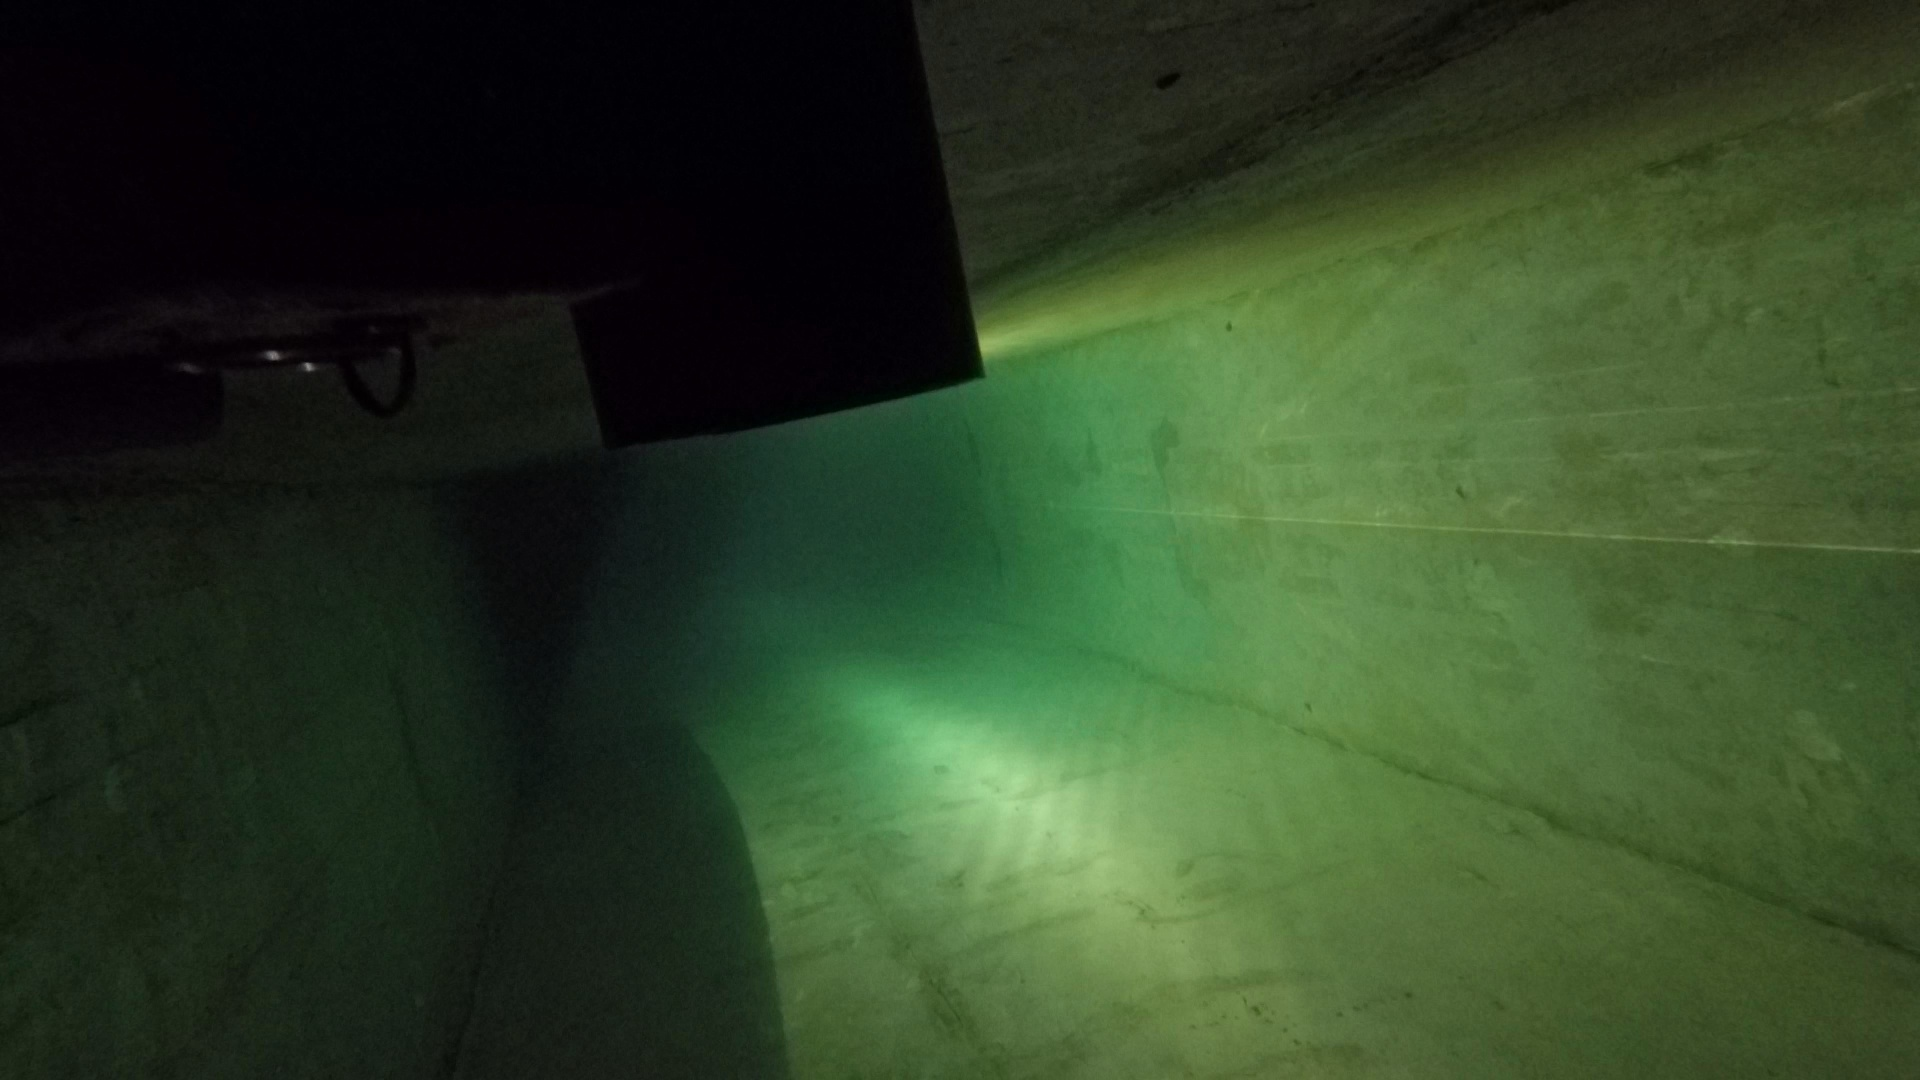led_block: (1, 5, 621, 421)
pipe: (570, 1, 985, 451), (1, 380, 228, 458)
